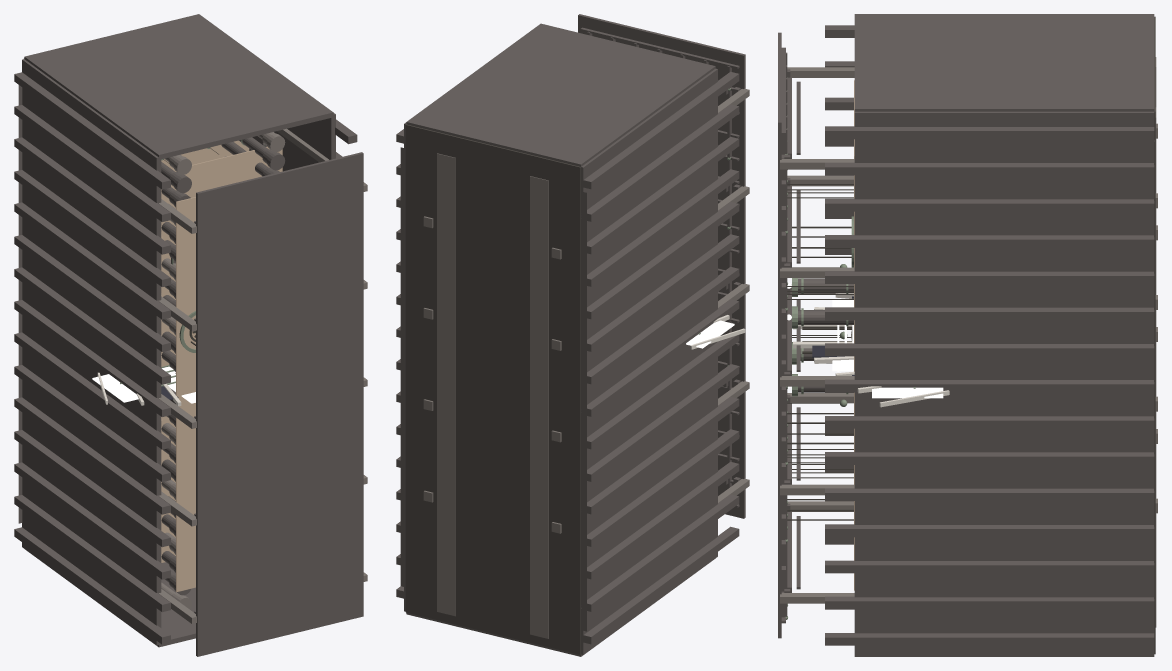
File: cathedral_mimo_v25_pro.glb
3 renders of one model, left to right at view 1: azimuth 30°, elevation 25°; view 2: azimuth 150°, elevation 25°; view 3: azimuth 270°, elevation 25°, orthographic. The views are drawn at different scales.
Parts seen in each view (by area): view 1: geometry_983, geometry_256, geometry_254, geometry_255, geometry_1566, geometry_1565, geometry_258, geometry_260, geometry_257, geometry_261, geometry_262, geometry_266 (+15 smaller); view 2: geometry_0, geometry_256, geometry_254, geometry_255, geometry_983, geometry_3, geometry_2, geometry_271, geometry_257, geometry_260, geometry_258, geometry_259 (+13 smaller); view 3: geometry_273, geometry_272, geometry_254, geometry_283, geometry_288, geometry_275, geometry_286, geometry_276, geometry_277, geometry_282, geometry_287, geometry_274 (+21 smaller).
Part boxes in pixels (x1=…): geometry_983: x1=196, y1=152, x2=363, y2=656; geometry_256: x1=62, y1=88, x2=161, y2=645; geometry_254: x1=24, y1=14, x2=333, y2=159; geometry_255: x1=22, y1=59, x2=64, y2=576; geometry_1566: x1=176, y1=197, x2=195, y2=591; geometry_1565: x1=161, y1=146, x2=282, y2=562; geometry_258: x1=14, y1=495, x2=170, y2=612; geometry_260: x1=14, y1=430, x2=170, y2=547; geometry_257: x1=14, y1=527, x2=170, y2=644; geometry_261: x1=14, y1=397, x2=170, y2=514; geometry_262: x1=14, y1=365, x2=170, y2=482; geometry_266: x1=14, y1=235, x2=170, y2=351; geometry_0: x1=405, y1=124, x2=580, y2=654; geometry_256: x1=621, y1=68, x2=717, y2=625; geometry_254: x1=406, y1=23, x2=715, y2=166; geometry_255: x1=581, y1=137, x2=623, y2=654; geometry_983: x1=578, y1=14, x2=745, y2=518; geometry_3: x1=400, y1=147, x2=405, y2=587; geometry_2: x1=581, y1=191, x2=586, y2=631; geometry_271: x1=582, y1=71, x2=739, y2=189; geometry_257: x1=583, y1=526, x2=739, y2=644; geometry_260: x1=582, y1=429, x2=739, y2=546; geometry_258: x1=583, y1=494, x2=739, y2=611; geometry_259: x1=582, y1=461, x2=739, y2=579; geometry_273: x1=854, y1=111, x2=1064, y2=655; geometry_272: x1=1064, y1=111, x2=1154, y2=655; geometry_254: x1=854, y1=14, x2=1154, y2=111; geometry_283: x1=825, y1=307, x2=1154, y2=320; geometry_288: x1=825, y1=126, x2=1154, y2=139; geometry_275: x1=825, y1=596, x2=1154, y2=609; geometry_286: x1=825, y1=198, x2=1154, y2=211; geometry_276: x1=825, y1=560, x2=1154, y2=573; geometry_277: x1=825, y1=524, x2=1154, y2=537; geometry_282: x1=825, y1=343, x2=1154, y2=356; geometry_287: x1=825, y1=162, x2=1154, y2=175; geometry_274: x1=825, y1=633, x2=1154, y2=645.
Bounding box in the file's own units: 442 × 808 × 508.
